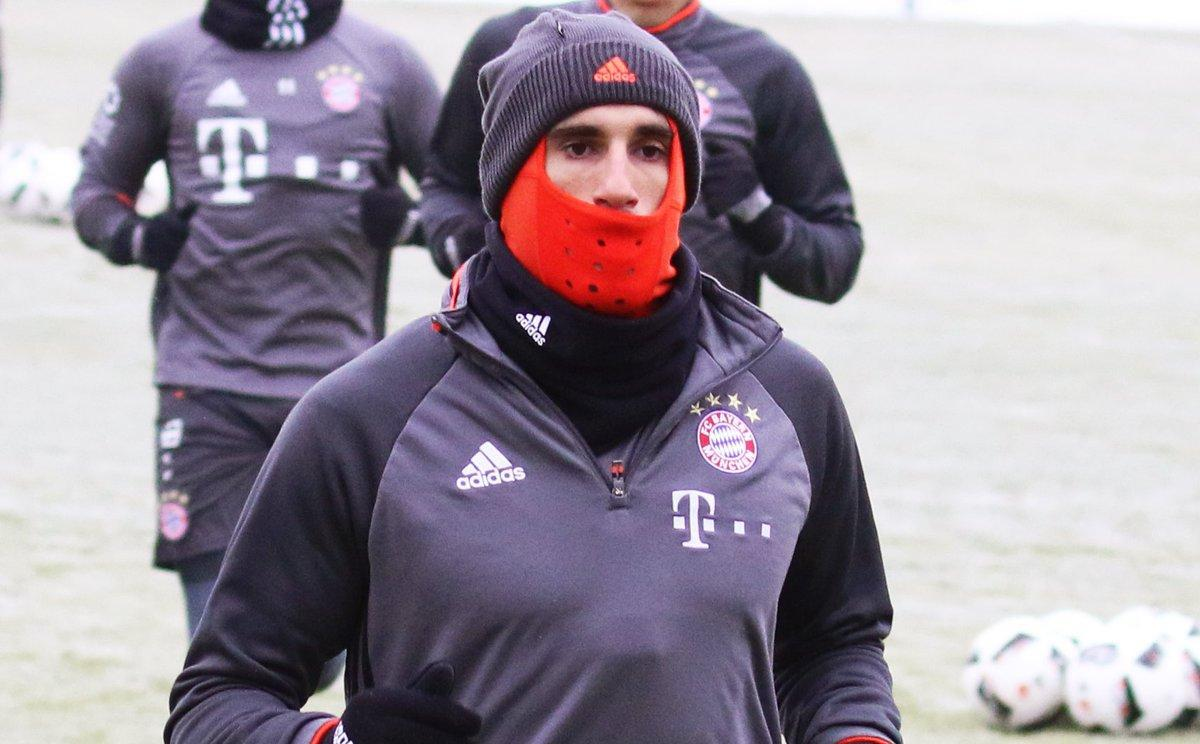WRONG: (510, 110, 701, 301)
